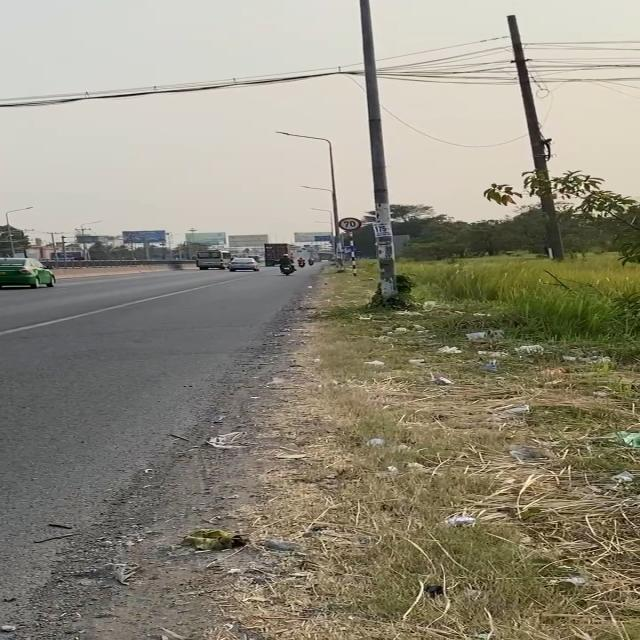127-toc-do-toi-da-70: (338, 217, 362, 231)
